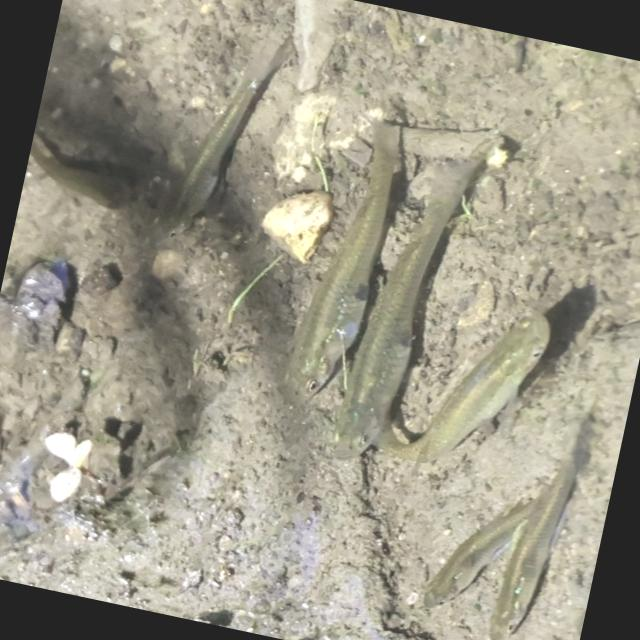Sivrisinek Baligi: (320, 130, 482, 473), (159, 0, 306, 257), (278, 103, 403, 404), (369, 297, 555, 488), (472, 424, 591, 640), (403, 482, 532, 626)
